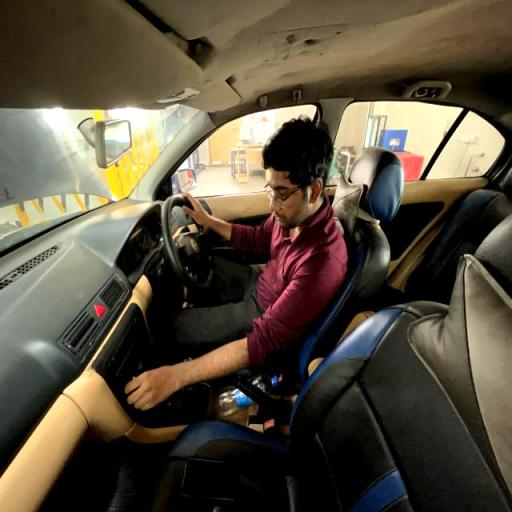operatingradio: (115, 115, 348, 416)
